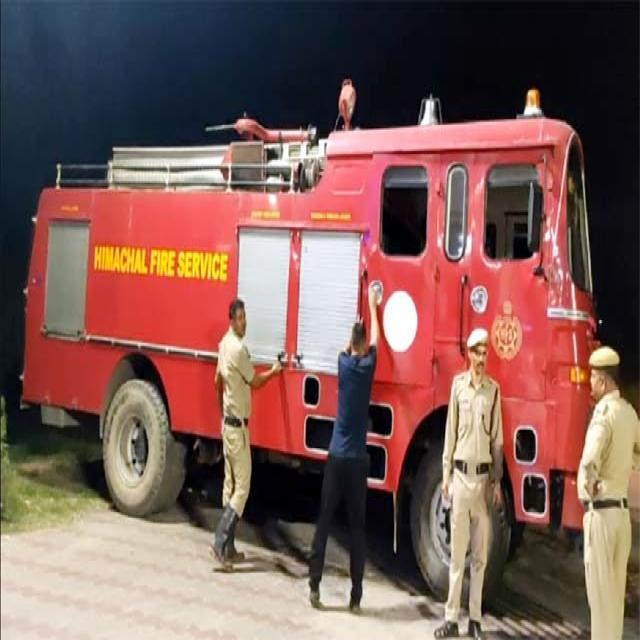emergency: (22, 80, 598, 596)
